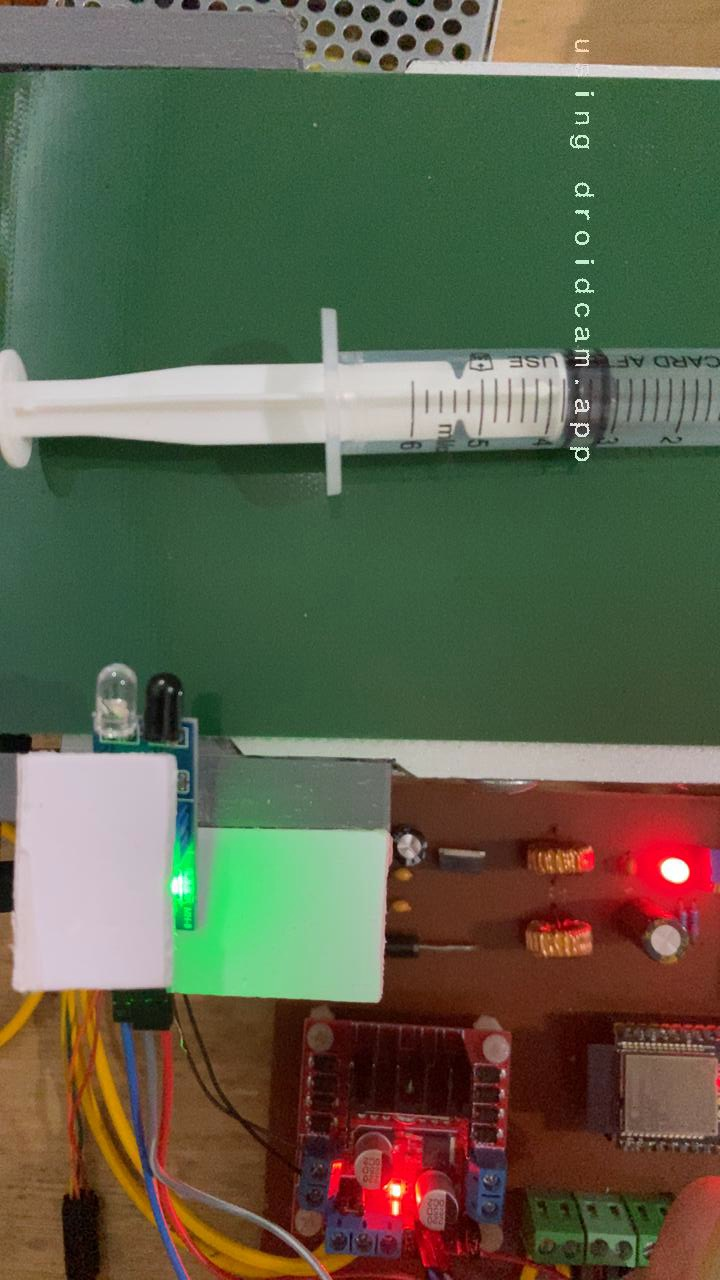syringe: (0, 302, 720, 504)
